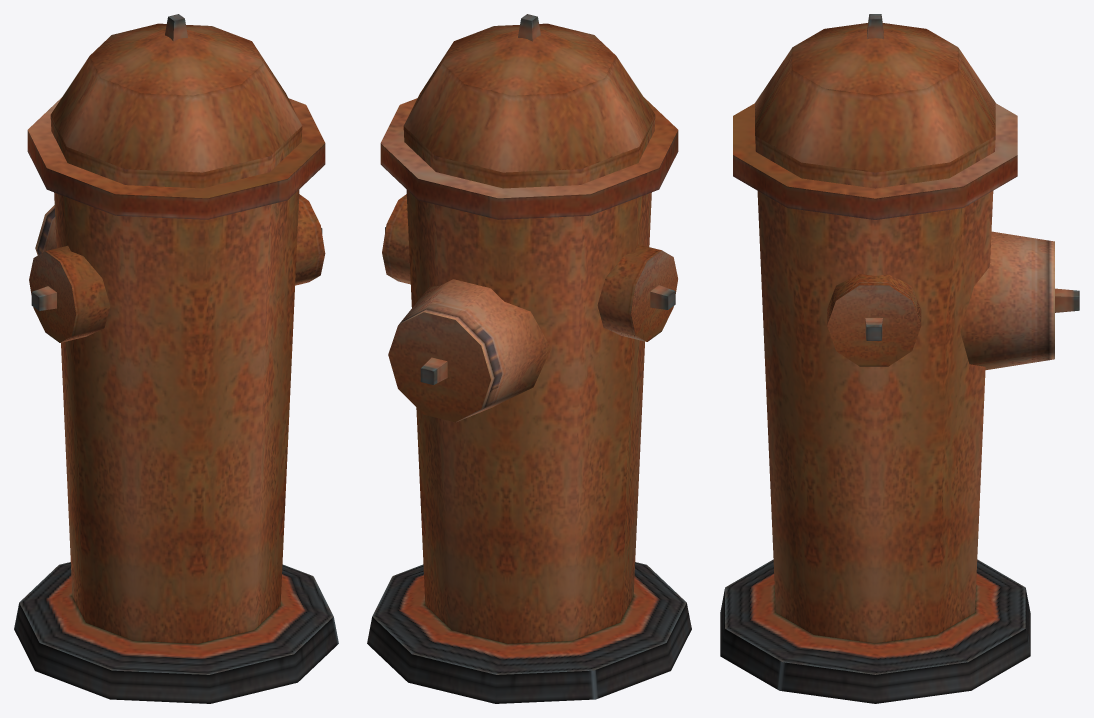
File: Model_FireHydrant_03.fbx
3 views of the same model, side by side, from view 1: azimuth 30°, elevation 25°; view 2: azimuth 150°, elevation 25°; view 3: azimuth 270°, elevation 25° (orthographic).
Visible parts, largest first — view 1: firehydrant1; view 2: firehydrant1; view 3: firehydrant1.
Part boxes in pixels (x1=…): firehydrant1: x1=14, y1=14, x2=338, y2=703; firehydrant1: x1=367, y1=14, x2=691, y2=703; firehydrant1: x1=720, y1=14, x2=1079, y2=703.
Bounding box in the file's own units: 37.43 × 78.16 × 41.2.
